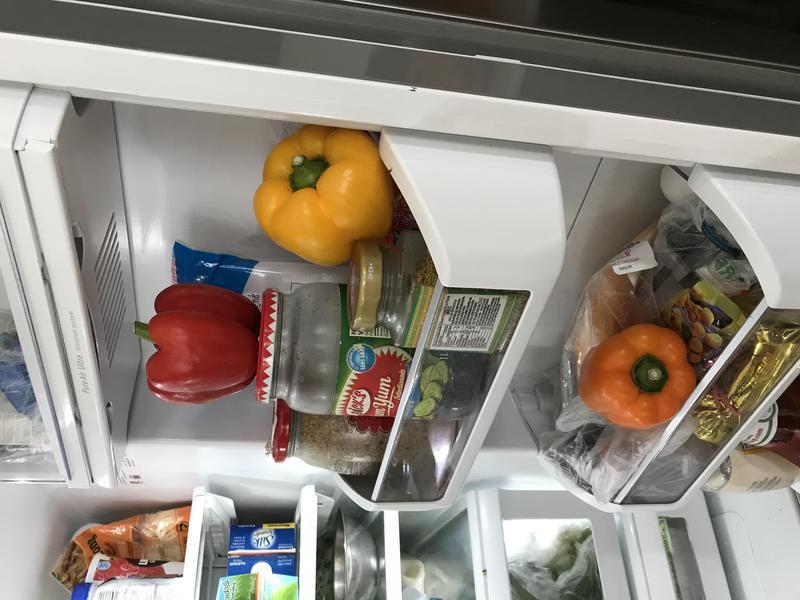orange_pepper: (569, 323, 700, 431)
red_pepper: (124, 278, 272, 412)
yellow_pepper: (249, 113, 401, 278)
